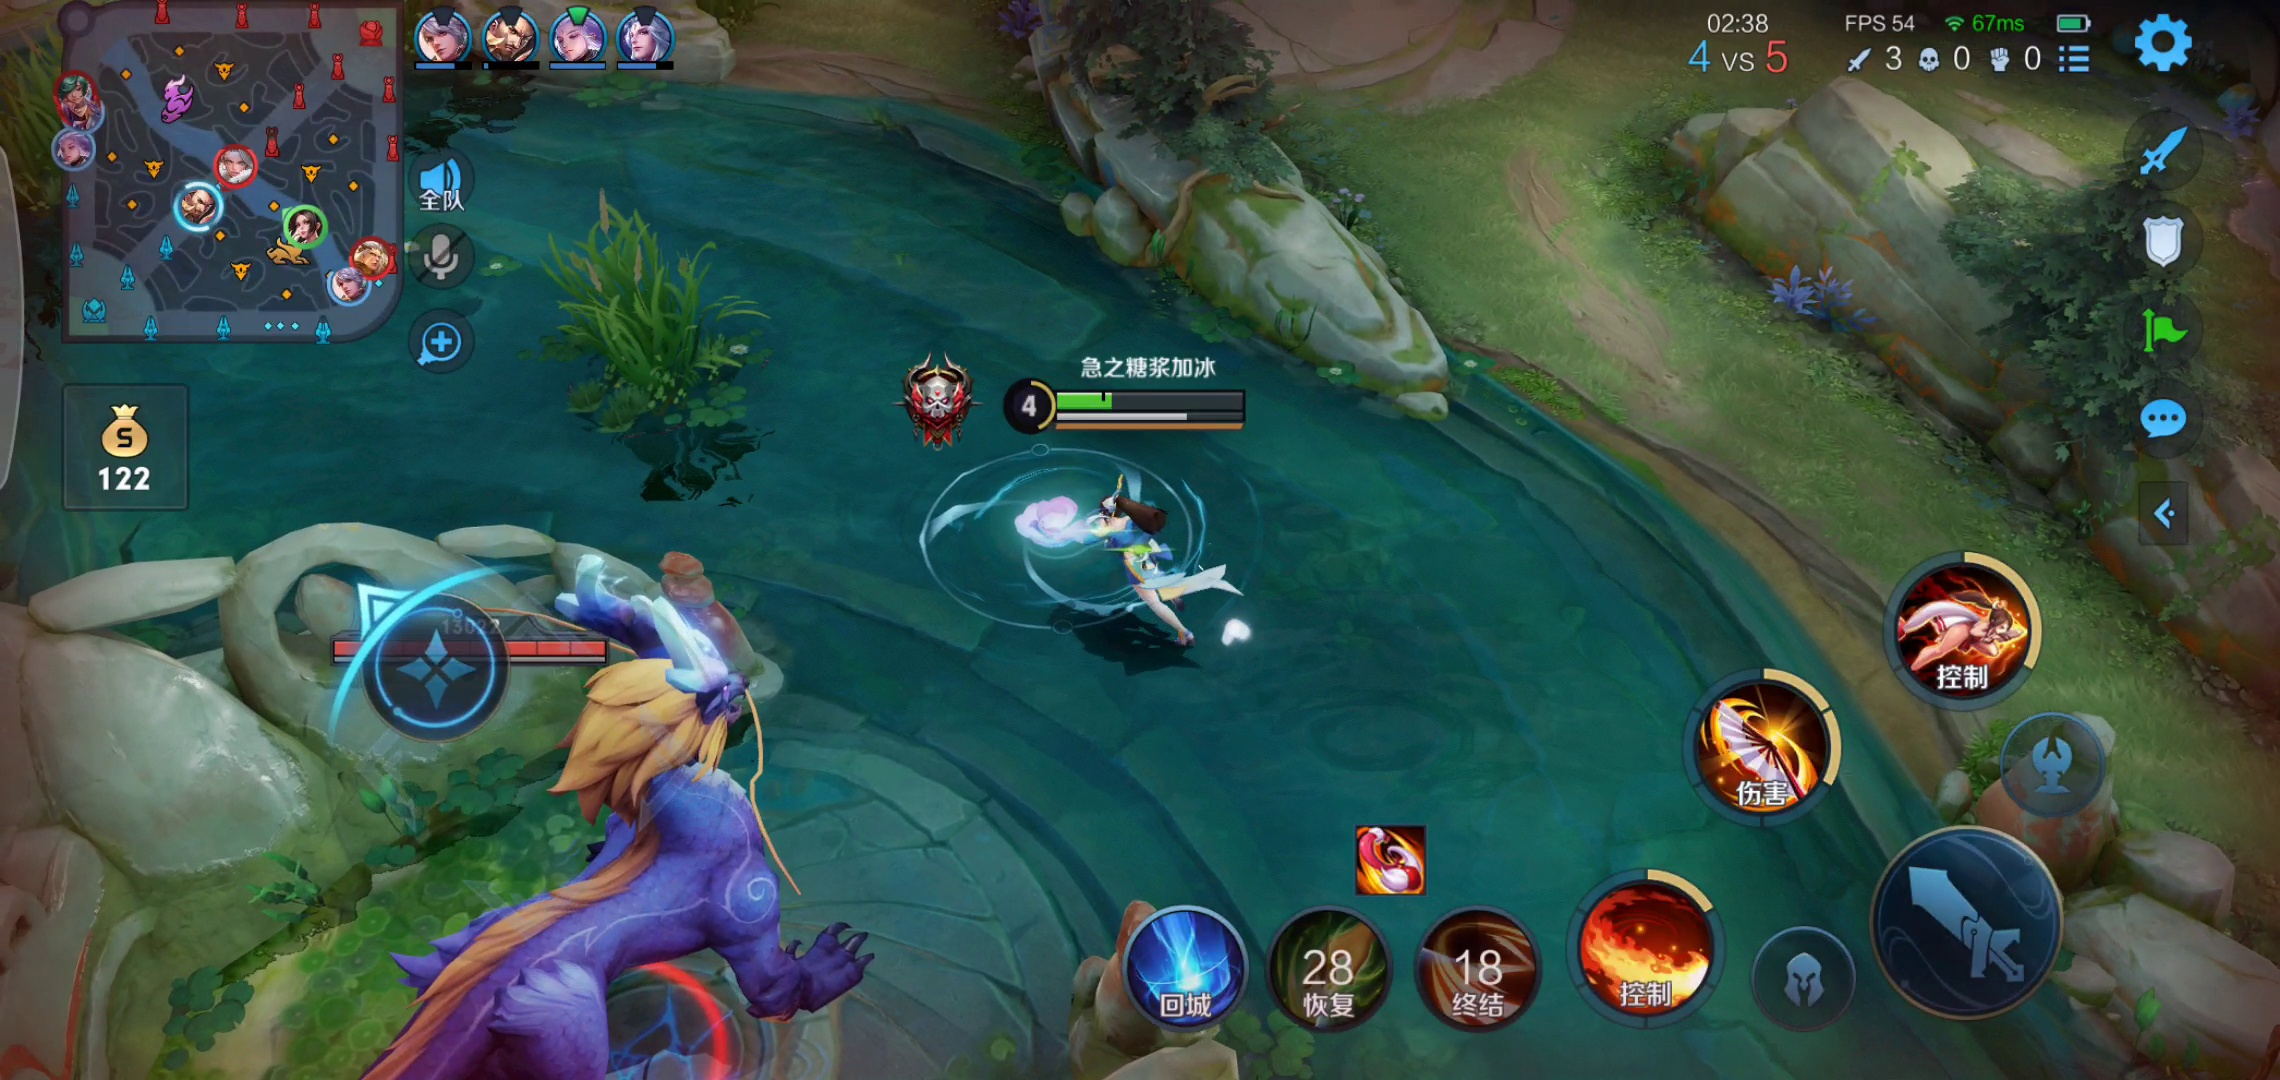dragon: (297, 589, 923, 1068)
grass: (531, 196, 749, 427)
hero: (987, 451, 1245, 677)
